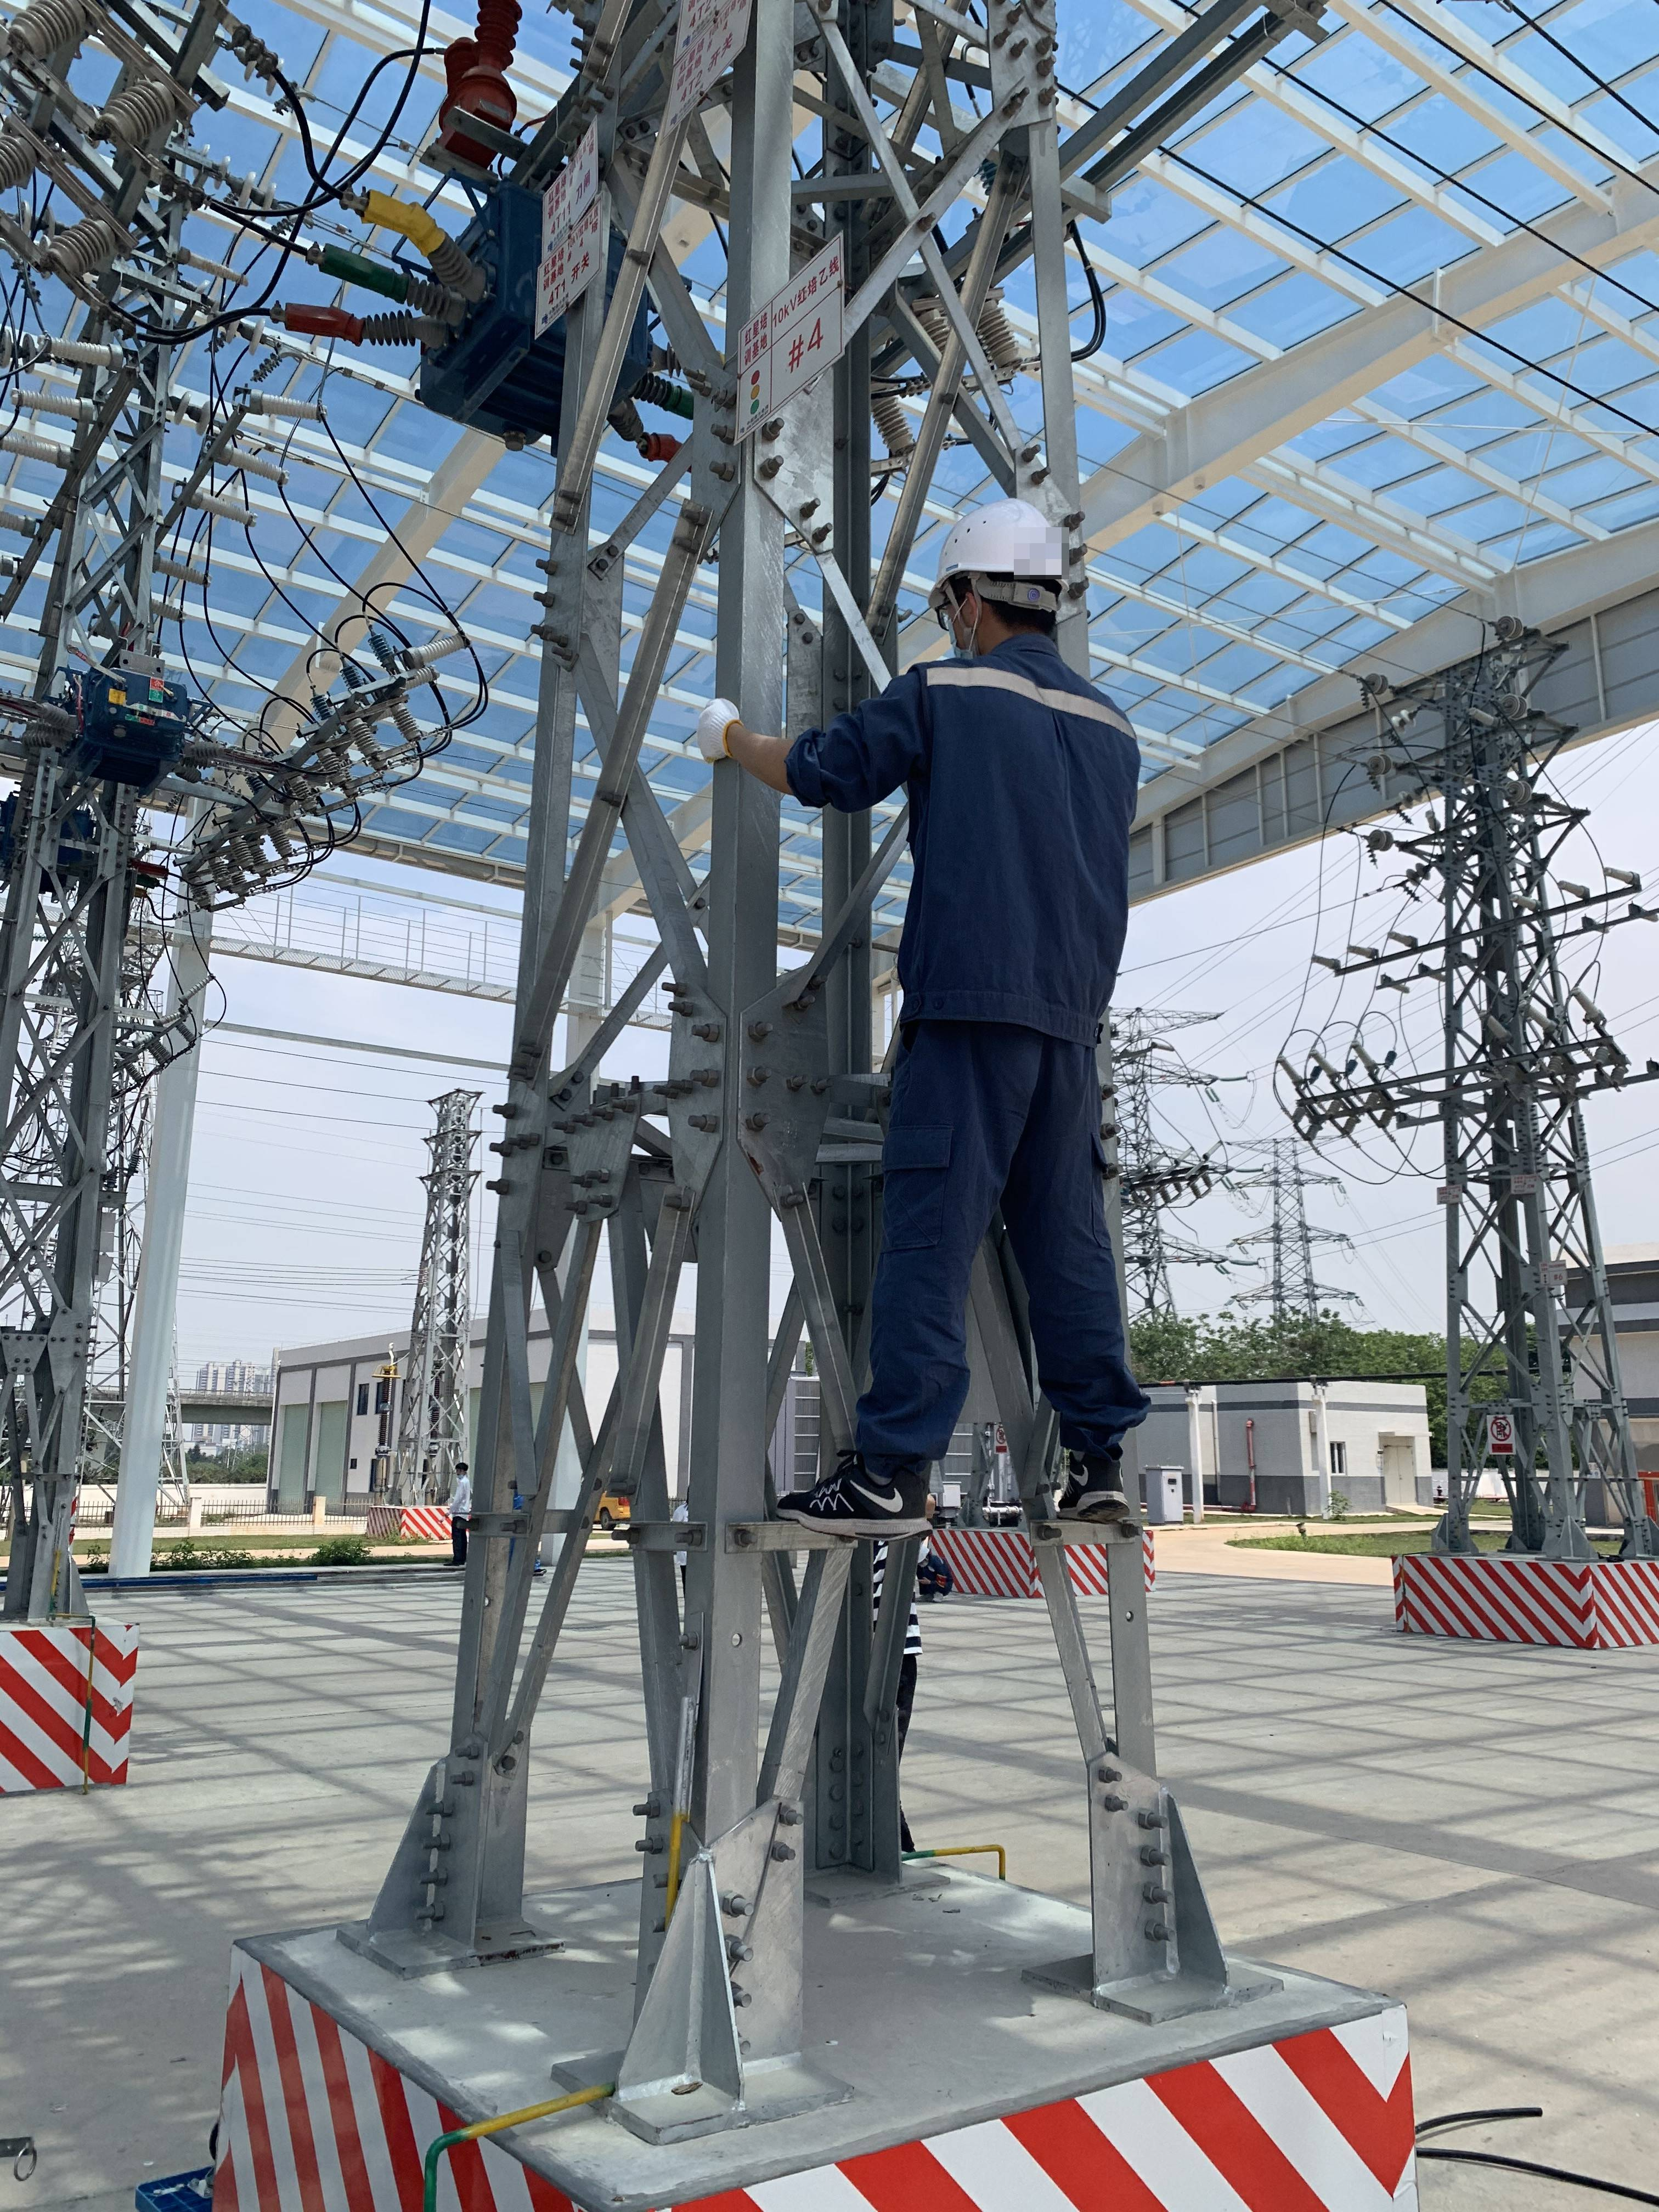downsuit: (845, 1047, 1140, 1461)
upsuit: (793, 655, 1150, 984)
wrongtop: (716, 709, 870, 824)
